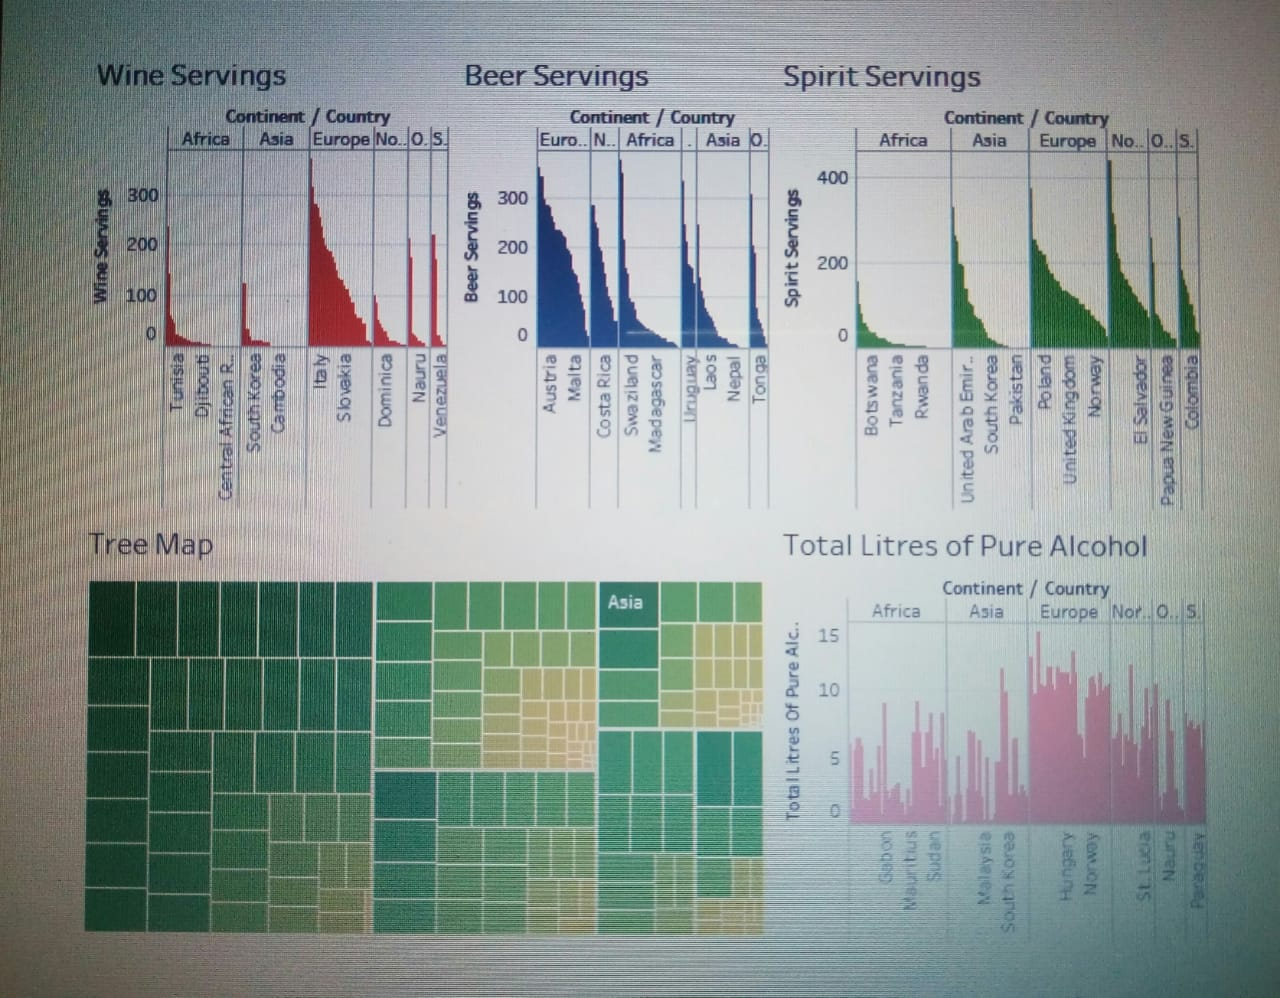

This screenshot's page, from the dashboard's own definition file:
{"tool":"tableau","page":{"name":"Dashboard","canvas":[1000,800],"ordinal":0},"visuals":[{"type":"worksheet","box":[0,0,1000,800]},{"type":"worksheet","param":"horz","box":[8,8,984,784]},{"type":"worksheet","param":"horz","box":[8,8,984,784]},{"type":"worksheet","box":[8,8,606,784]},{"type":"worksheet","title":"Wine Servings","mark":"Automatic","rows":["wine_servings"],"cols":["continent","country"],"box":[8,8,325,412]},{"type":"worksheet","title":"Beer Servings","mark":"Automatic","rows":["beer_servings"],"cols":["continent","country"],"box":[333,8,281,412]},{"type":"worksheet","param":"vert","box":[614,8,378,784]},{"type":"worksheet","title":"Spirit Servings","mark":"Automatic","rows":["spirit_servings"],"cols":["continent","country"],"box":[614,8,378,412]},{"type":"worksheet","title":"Tree Map","mark":"Automatic","box":[8,420,606,372]},{"type":"worksheet","title":"Total Litres of Pure Alcohol","mark":"Automatic","rows":["total_litres_of_pure_alcohol"],"cols":["continent","country"],"box":[614,420,378,372]}]}

Visuals, with their boxes in screenshot pixels (x1, y1, x2, y2), scaled from the page's 1000x800 canvas onto the 1280x998 screenshot:
worksheet: left=0, top=0, right=1279, bottom=997
worksheet: left=10, top=10, right=1270, bottom=988
worksheet: left=10, top=10, right=1270, bottom=988
worksheet: left=10, top=10, right=786, bottom=988
"Wine Servings" worksheet: left=10, top=10, right=426, bottom=524
"Beer Servings" worksheet: left=426, top=10, right=786, bottom=524
worksheet: left=786, top=10, right=1270, bottom=988
"Spirit Servings" worksheet: left=786, top=10, right=1270, bottom=524
"Tree Map" worksheet: left=10, top=524, right=786, bottom=988
"Total Litres of Pure Alcohol" worksheet: left=786, top=524, right=1270, bottom=988
